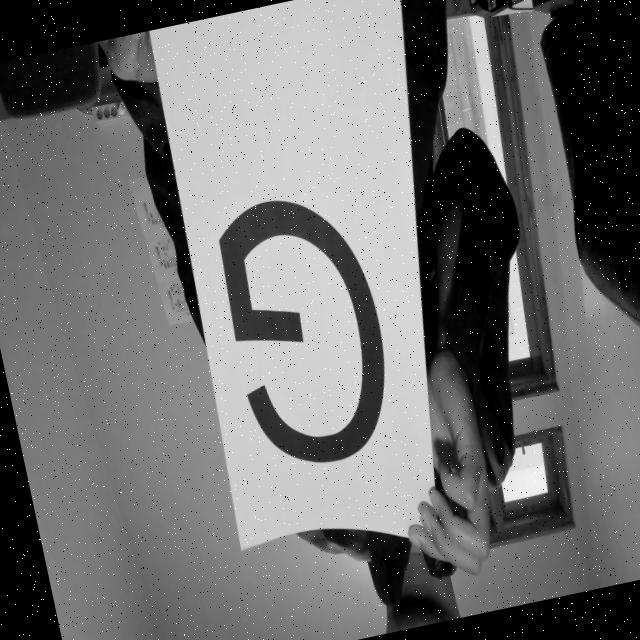g: (181, 139, 423, 512)
